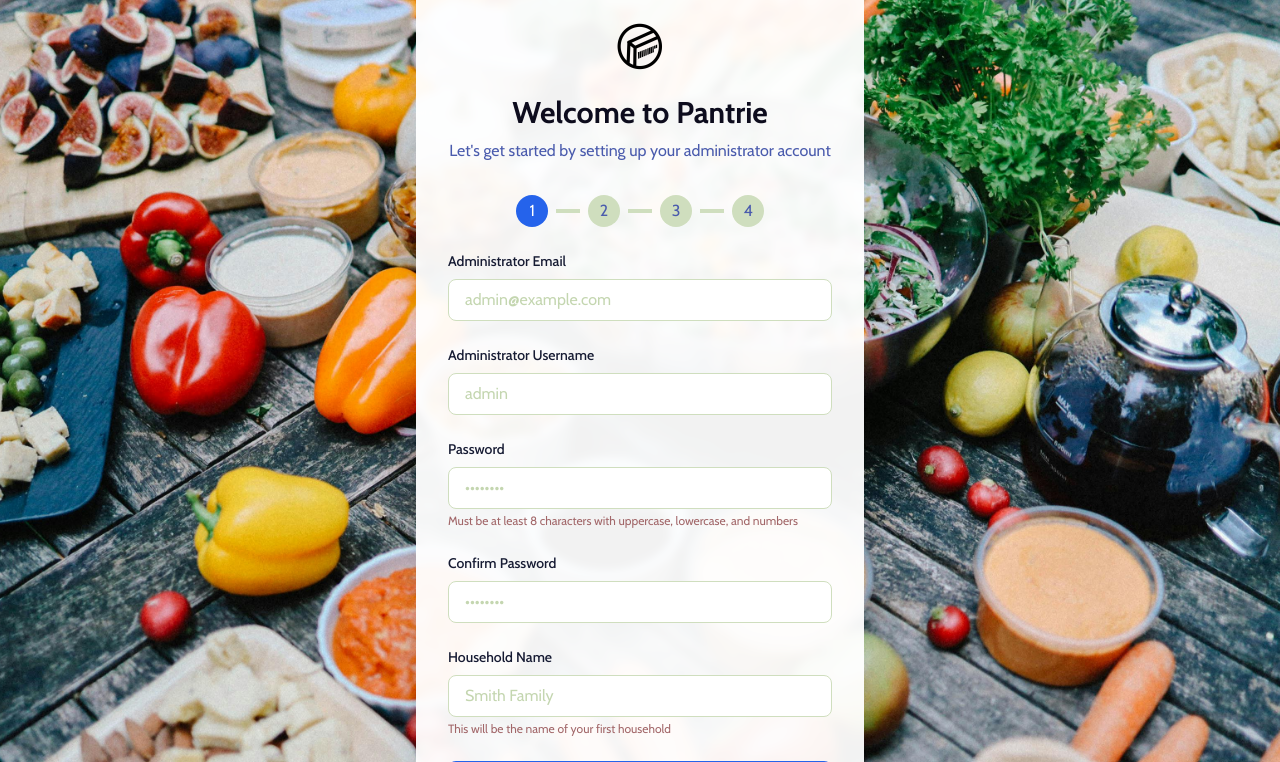
Test: SetupPage › rejects invalid admin passwords: {"admin_password":"PASSWORD1","confirm_password":"PASSWORD1"}
Type "PASSWORD1" into the password field with id "admin_password".
click(640, 488); type("PASSWORD1")  # box [448,467,832,509]
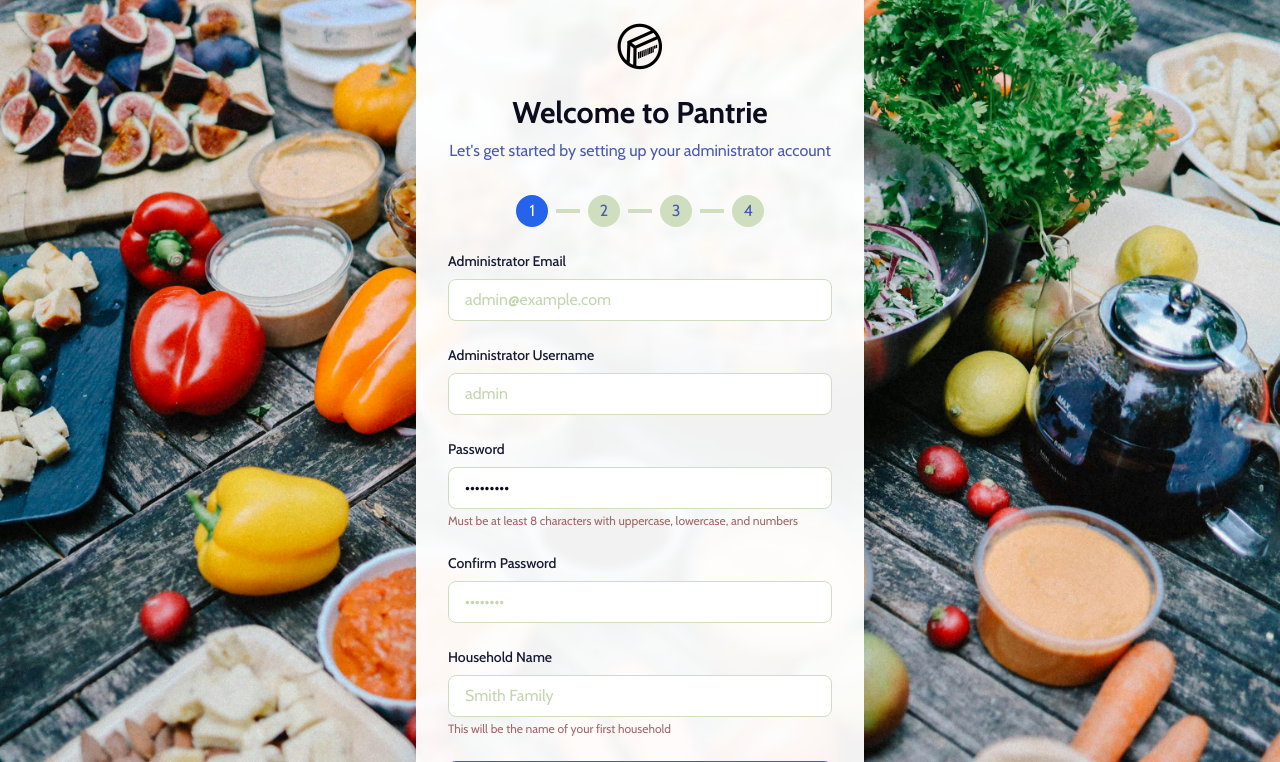
Type "PASSWORD1" into the password field with id "confirm_password".
click(640, 602); type("PASSWORD1")  # box [448,581,832,623]
(page scrolled)
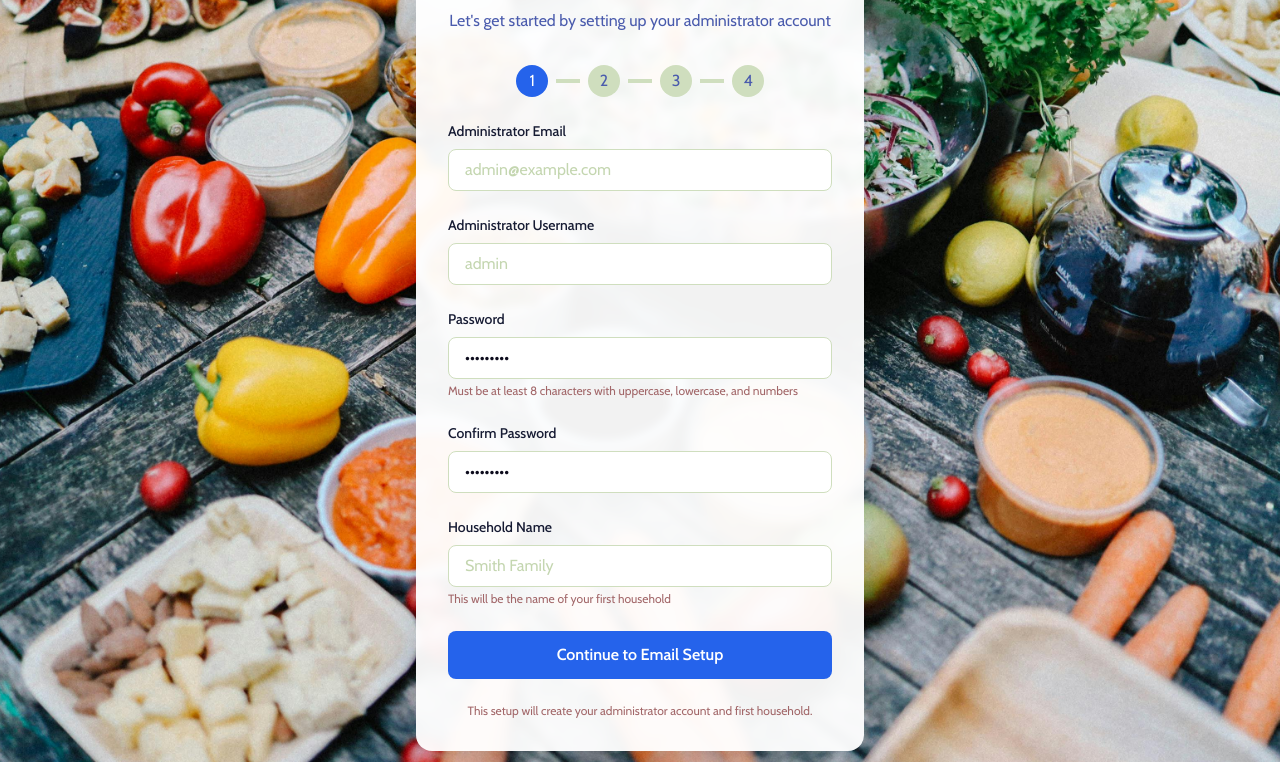
Submit the form with id "admin_password", box [448,121,832,679]
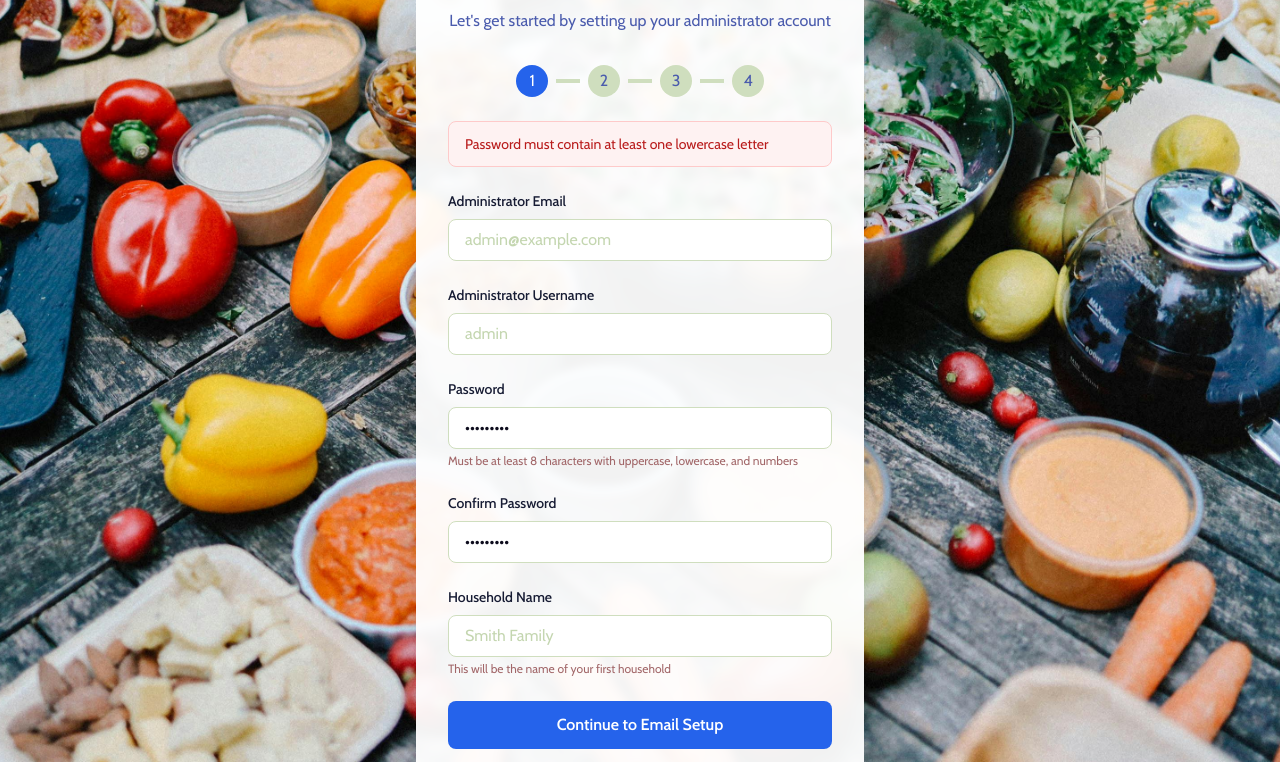
Now the text "Password must contain at least one lowercase letter" is shown, box [465,134,815,154]
